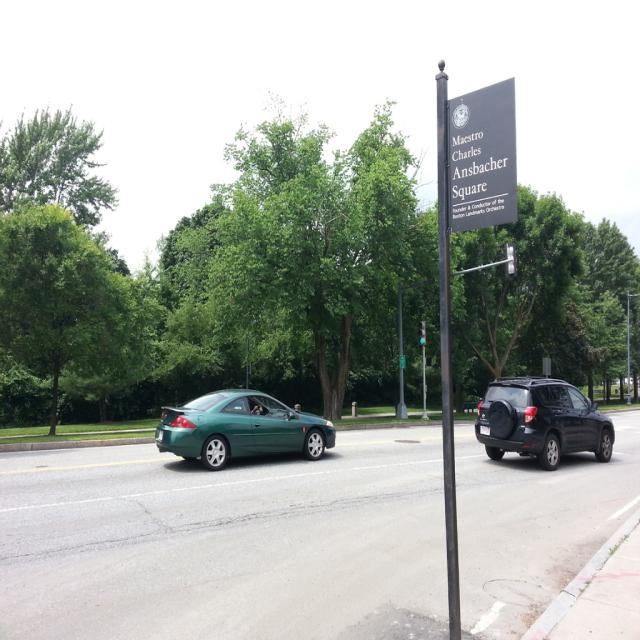car: (153, 383, 333, 472), (471, 372, 615, 471)
